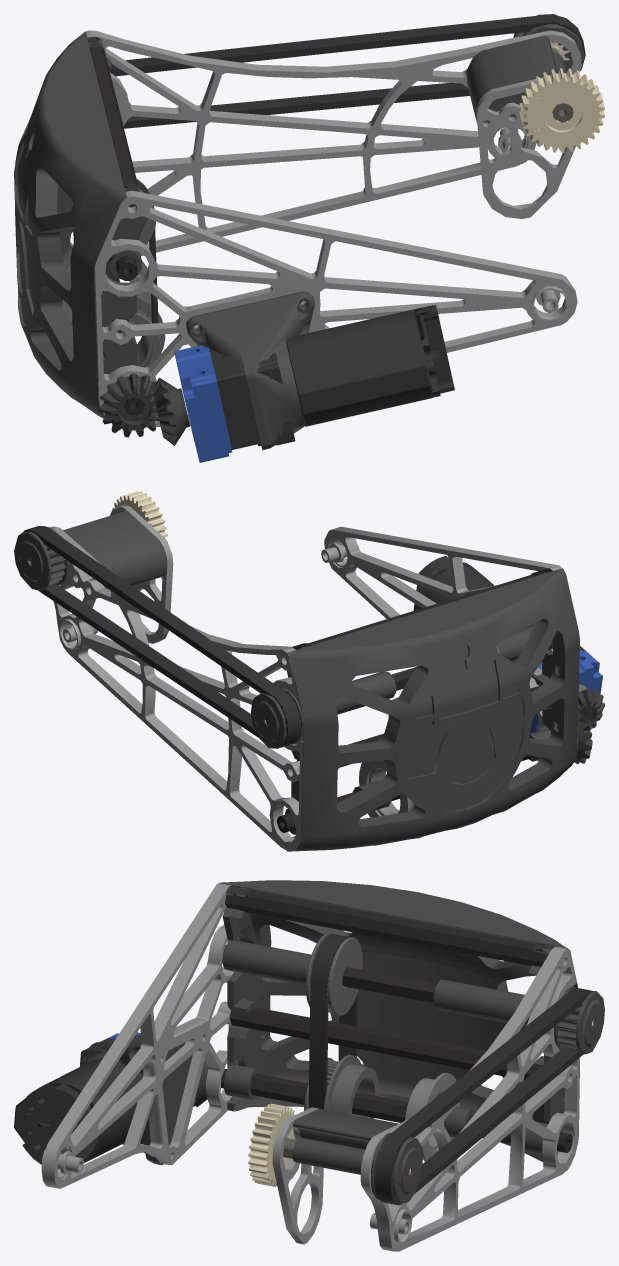
File: 1690-hood.glb
The picture shows the model from 3 angles, top to bottom: view 1: azimuth 30°, elevation 25°; view 2: azimuth 150°, elevation 25°; view 3: azimuth 270°, elevation 25°; orthographic projection. The views are drawn at different scales.
Visible parts, largest first — view 1: 1690-26-441-03A-Mirrored, 1690-26-451-05A, VersaPlanetary Ring Gear-Mirrored, 110T 5M 9mm Wide Belt, 1690-26-441-05A 30T-Mirrored, 1690-26-442-02A, 217-2625-026 Rev1, 1690-26-441-08A, 1690-26-443-03A 40Tgt2, 1690-26-442-08A; view 2: 1690-26-451-05A, 1690-26-441-03A-Mirrored, 110T 5M 9mm Wide Belt, 1690-26-442-08A, 1690-26-441-08A, VersaPlanetary Ring Gear-Mirrored, 1690-26-442-02A, 1690-26-441-05A 30T-Mirrored, 1690-26-443-07A, 217-2625-026 Rev1; view 3: 1690-26-441-03A-Mirrored, 1690-26-451-05A, 1690-26-441-08A, 110T 5M 9mm Wide Belt, 1690-26-442-08A, VersaPlanetary Ring Gear-Mirrored, 1690-26-443-03A 40Tgt2, 1690-26-441-05A 30T-Mirrored, 1690-26-443-07A.
Part boxes in pixels (x1=…): 1690-26-441-03A-Mirrored: x1=70, y1=30, x2=581, y2=427; 1690-26-451-05A: x1=14, y1=14, x2=584, y2=450; VersaPlanetary Ring Gear-Mirrored: x1=209, y1=304, x2=454, y2=449; 110T 5M 9mm Wide Belt: x1=72, y1=14, x2=585, y2=323; 1690-26-441-05A 30T-Mirrored: x1=519, y1=42, x2=604, y2=152; 1690-26-442-02A: x1=99, y1=373, x2=189, y2=445; 217-2625-026 Rev1: x1=174, y1=345, x2=232, y2=462; 1690-26-441-08A: x1=90, y1=47, x2=144, y2=415; 1690-26-443-03A 40Tgt2: x1=71, y1=178, x2=165, y2=367; 1690-26-442-08A: x1=108, y1=51, x2=566, y2=377; 1690-26-451-05A: x1=14, y1=510, x2=579, y2=851; 1690-26-441-03A-Mirrored: x1=50, y1=505, x2=578, y2=851; 110T 5M 9mm Wide Belt: x1=23, y1=526, x2=300, y2=747; 1690-26-442-08A: x1=285, y1=625, x2=552, y2=834; 1690-26-441-08A: x1=265, y1=574, x2=539, y2=832; VersaPlanetary Ring Gear-Mirrored: x1=413, y1=556, x2=585, y2=662; 1690-26-442-02A: x1=574, y1=688, x2=604, y2=764; 1690-26-441-05A 30T-Mirrored: x1=29, y1=491, x2=266, y2=723; 1690-26-443-07A: x1=359, y1=760, x2=413, y2=817; 217-2625-026 Rev1: x1=530, y1=650, x2=602, y2=733; 1690-26-441-03A-Mirrored: x1=41, y1=883, x2=579, y2=1251; 1690-26-451-05A: x1=84, y1=880, x2=604, y2=1204; 1690-26-441-08A: x1=221, y1=890, x2=572, y2=1152; 110T 5M 9mm Wide Belt: x1=308, y1=934, x2=592, y2=1205; 1690-26-442-08A: x1=223, y1=940, x2=561, y2=1174; VersaPlanetary Ring Gear-Mirrored: x1=14, y1=1038, x2=142, y2=1164; 1690-26-443-03A 40Tgt2: x1=304, y1=933, x2=378, y2=1118; 1690-26-441-05A 30T-Mirrored: x1=248, y1=986, x2=593, y2=1186; 1690-26-443-07A: x1=405, y1=1073, x2=459, y2=1161.
Bounding box in the file's own units: 0.321 × 0.1303 × 0.2956.
